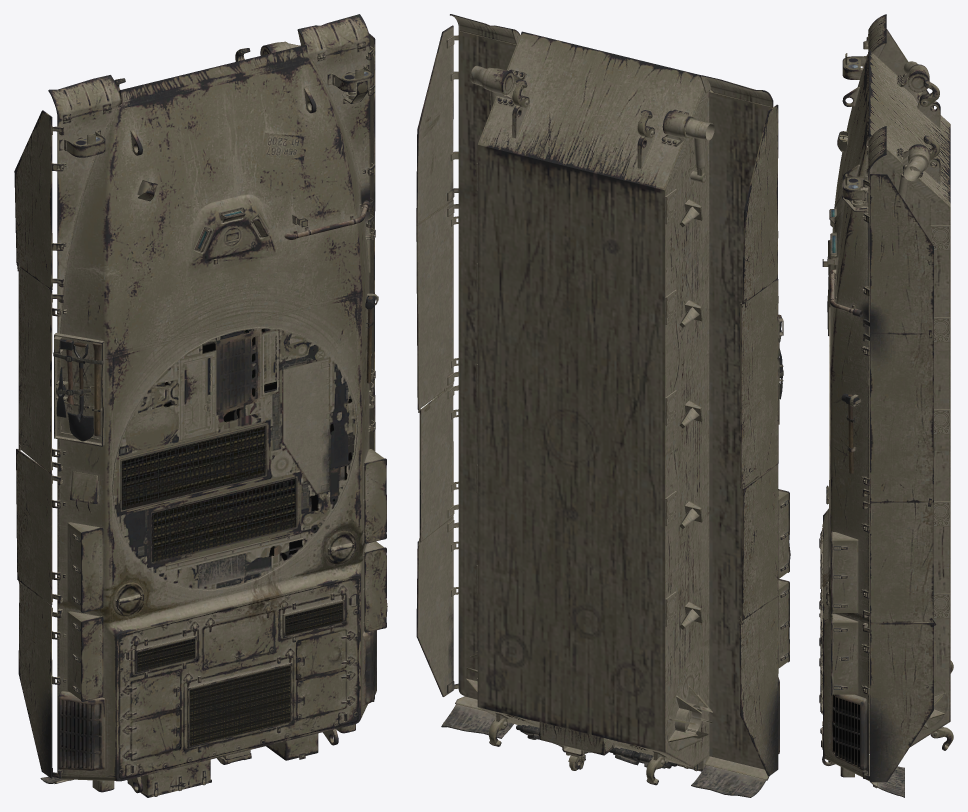
The model's file is Hull.glb.
3 renders of one model, left to right at view 1: azimuth 30°, elevation 25°; view 2: azimuth 150°, elevation 25°; view 3: azimuth 270°, elevation 25°, orthographic. The views are drawn at different scales.
Parts seen in each view (by area): view 1: set_0_group_0; view 2: set_0_group_0; view 3: set_0_group_0.
Part boxes in pixels (x1,y1,x2,y2): set_0_group_0: (14,14,387,797); set_0_group_0: (416,14,790,797); set_0_group_0: (819,14,953,797).
Size of the model in its own units: 3.28 by 6.71 by 1.26.
1 material, 1 textured.
